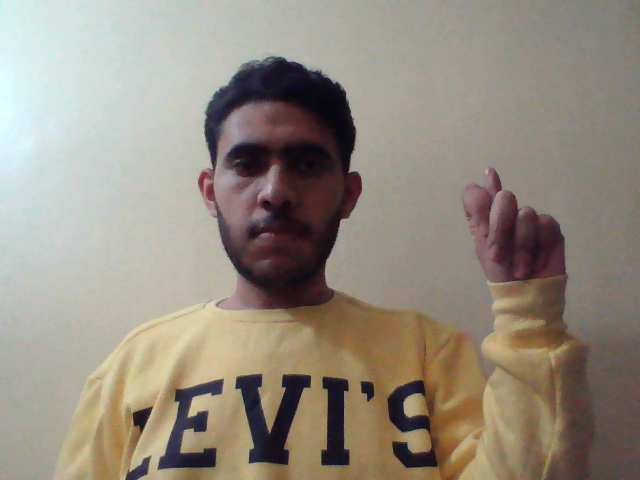T: (455, 160, 579, 307)
